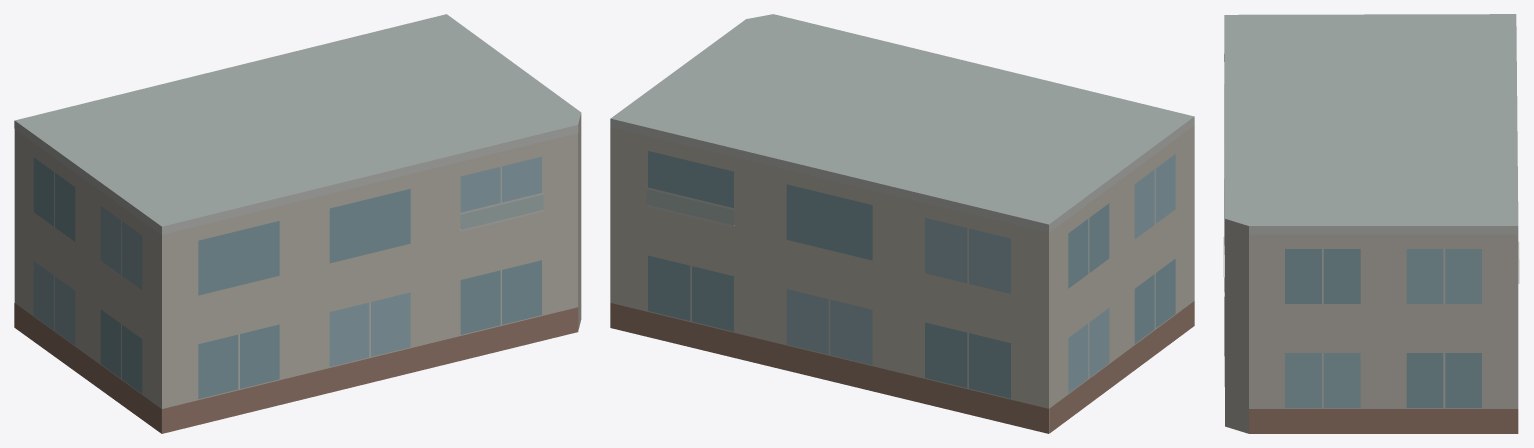
The model's file is survey-upis-32815225.glb.
3 renders of one model, left to right at view 1: azimuth 30°, elevation 25°; view 2: azimuth 150°, elevation 25°; view 3: azimuth 270°, elevation 25°, orthographic.
Visible parts, largest first — view 1: survey-upis-32815225.tmp; view 2: survey-upis-32815225.tmp; view 3: survey-upis-32815225.tmp.
Boxes of the visible parts, left/top/right/bottom form: survey-upis-32815225.tmp: left=14, top=14, right=581, bottom=433; survey-upis-32815225.tmp: left=610, top=14, right=1194, bottom=433; survey-upis-32815225.tmp: left=1223, top=14, right=1519, bottom=433.
Bounding box in the file's own units: 13.36 × 6.1 × 7.89.
